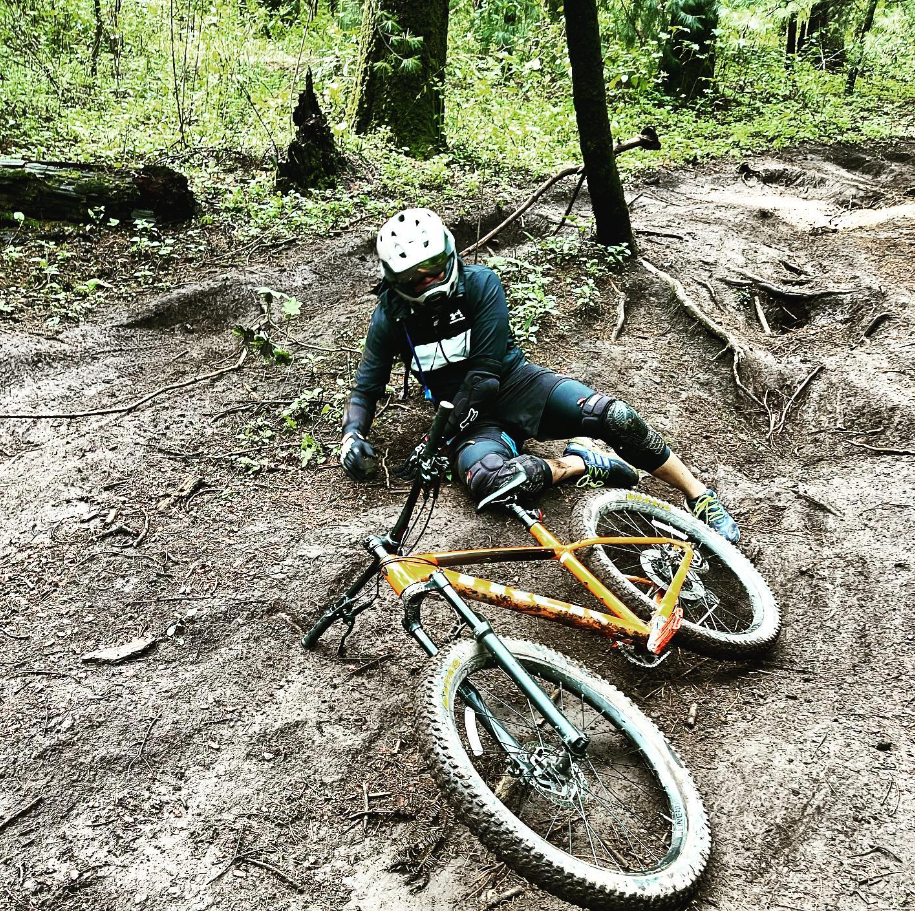fall: (220, 194, 746, 561)
